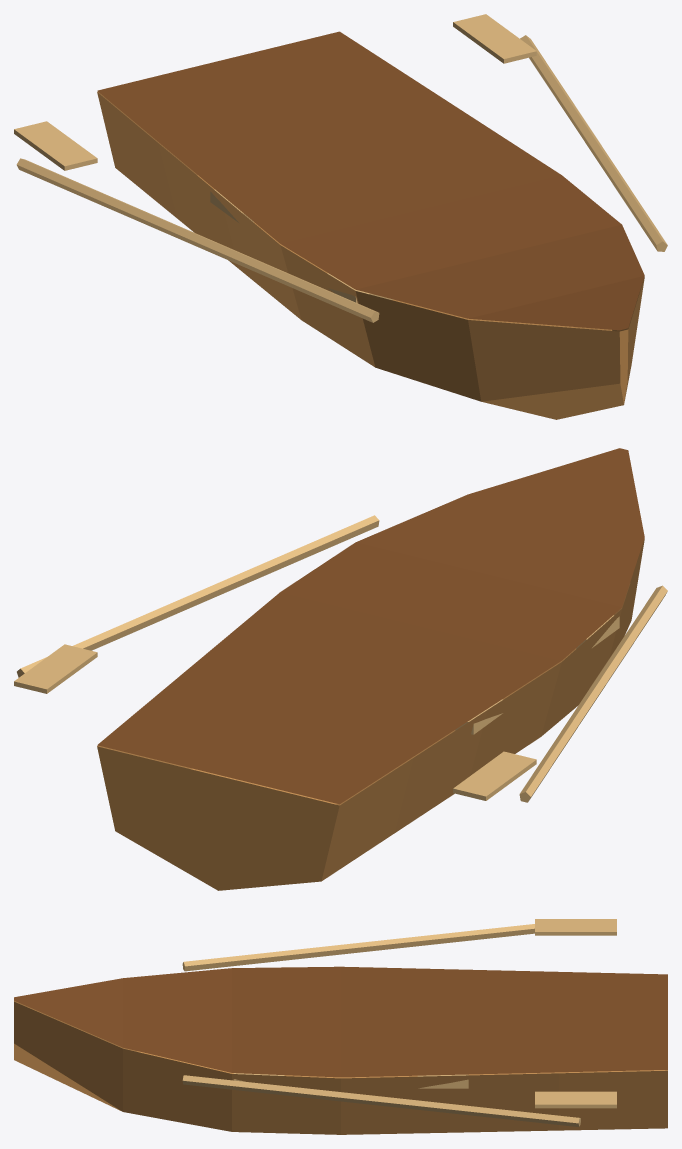
File: rowboat.glb
3 renders of one model, top to bottom at view 1: azimuth 30°, elevation 25°; view 2: azimuth 150°, elevation 25°; view 3: azimuth 270°, elevation 25°, orthographic. The views are drawn at different scales.
Parts seen in each view (by area): view 1: rowboat; view 2: rowboat; view 3: rowboat.
Boxes of the visible parts, box(x1,y1,x2,y2) form: rowboat: box(14, 14, 667, 419); rowboat: box(14, 448, 667, 890); rowboat: box(14, 919, 667, 1134).
Size of the model in its own units: 2.34 by 0.63 by 3.2.
